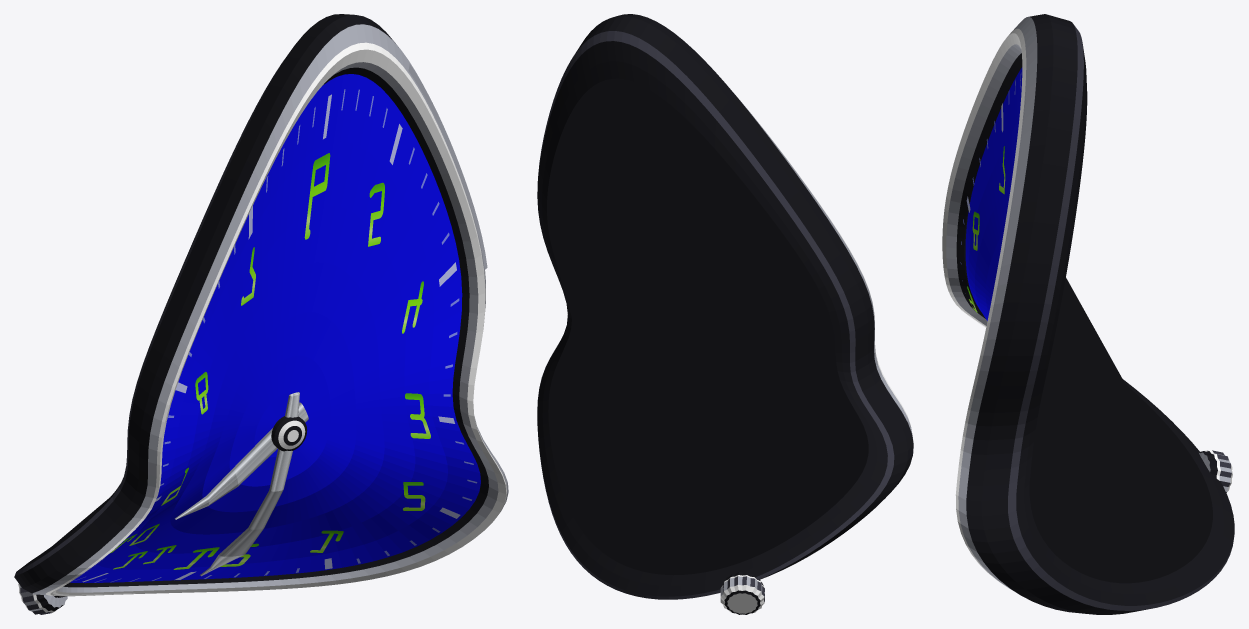
Rendered from clock-06.obj.
3 renders of one model, left to right at view 1: azimuth 30°, elevation 25°; view 2: azimuth 150°, elevation 25°; view 3: azimuth 270°, elevation 25°, orthographic. The views are drawn at different scales.
Visible parts, largest first — view 1: clock-06; view 2: clock-06; view 3: clock-06.
Boxes of the visible parts, x1,y1,x2,y2 form: clock-06: (14,14,508,614); clock-06: (537,14,913,614); clock-06: (942,14,1234,614).
Size of the model in its own units: 1.48 by 1.94 by 0.8716.
9 materials, 2 textured.
